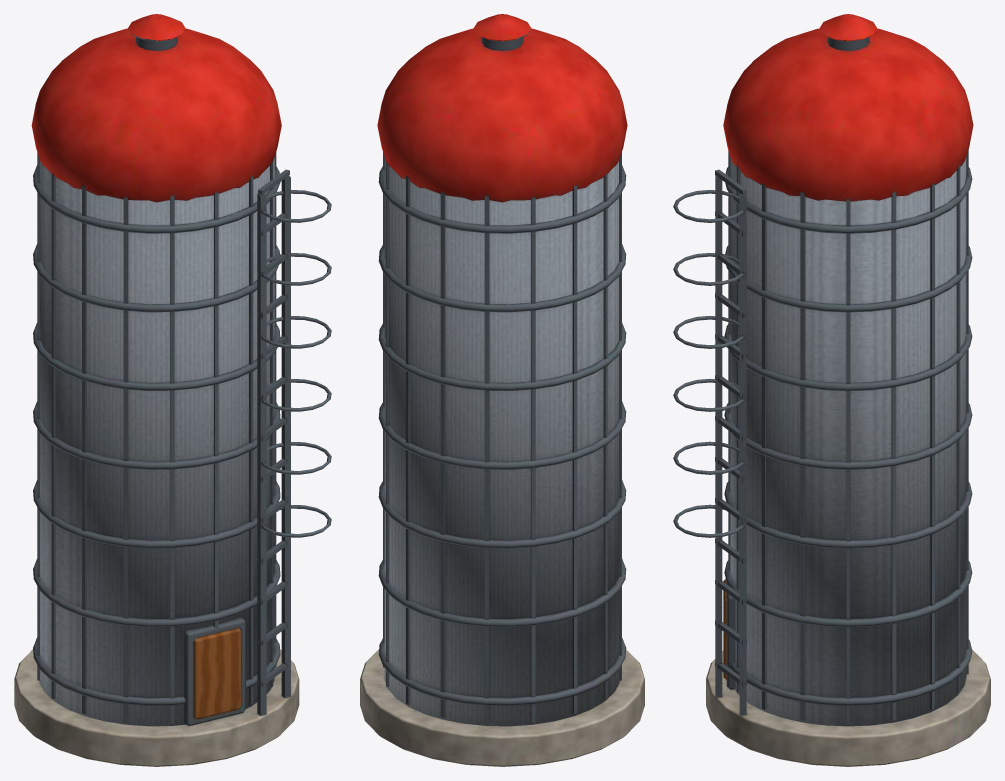
The model's file is silo.glb.
3 renders of one model, left to right at view 1: azimuth 30°, elevation 25°; view 2: azimuth 150°, elevation 25°; view 3: azimuth 270°, elevation 25°, orthographic.
Visible parts, largest first — view 1: silo; view 2: silo; view 3: silo.
Part boxes in pixels (x1,y1,x2,y2): silo: (14, 14, 331, 766); silo: (360, 14, 644, 766); silo: (673, 14, 990, 766).
Bounding box in the file's own units: 0.82 × 2.2 × 0.9144.
Materials: 1 (1 with a texture image).
